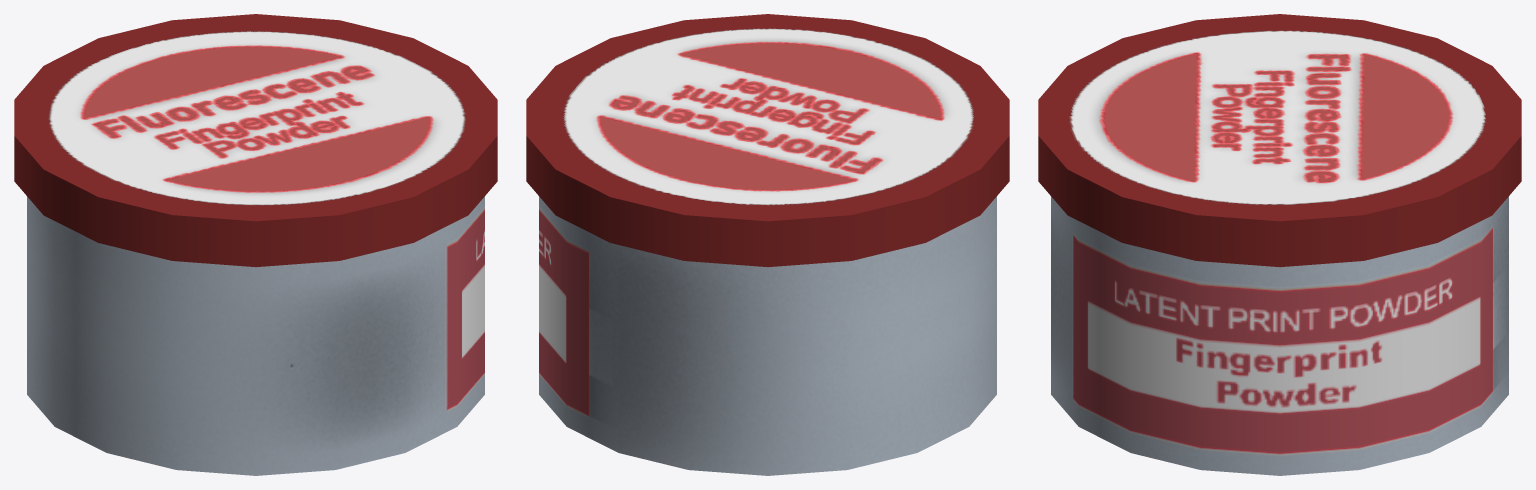
The model's file is fingerprint_powder_red.fbx.
3 views of the same model, side by side, from view 1: azimuth 30°, elevation 25°; view 2: azimuth 150°, elevation 25°; view 3: azimuth 270°, elevation 25° (orthographic).
Visible parts, largest first — view 1: fingerprint_kit_01.print dust 01.lid.001, fingerprint_kit_01.print dust 01.001; view 2: fingerprint_kit_01.print dust 01.lid.001, fingerprint_kit_01.print dust 01.001; view 3: fingerprint_kit_01.print dust 01.lid.001, fingerprint_kit_01.print dust 01.001.
Part boxes in pixels (x1,y1,x2,y2): fingerprint_kit_01.print dust 01.lid.001: (14, 14, 497, 267); fingerprint_kit_01.print dust 01.001: (27, 196, 484, 475); fingerprint_kit_01.print dust 01.lid.001: (526, 14, 1009, 267); fingerprint_kit_01.print dust 01.001: (539, 196, 996, 475); fingerprint_kit_01.print dust 01.lid.001: (1038, 14, 1521, 267); fingerprint_kit_01.print dust 01.001: (1051, 196, 1508, 475).
Bounding box in the file's own units: 23.64 × 13.83 × 23.28.
